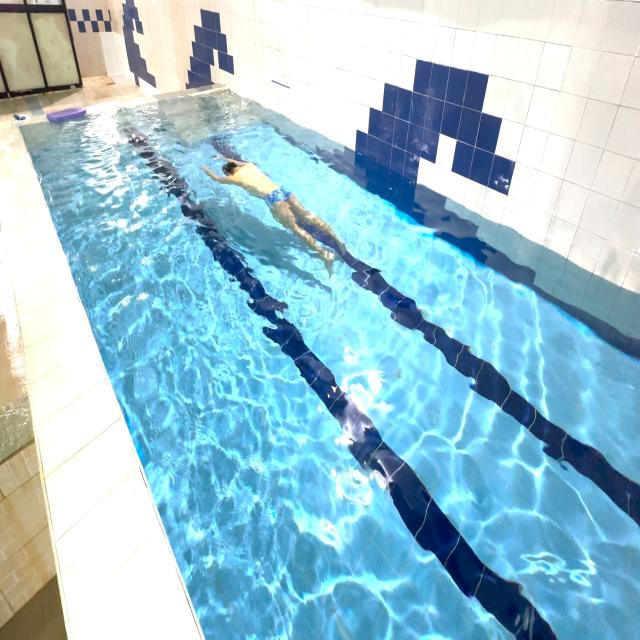Swimming: (192, 129, 356, 285)
